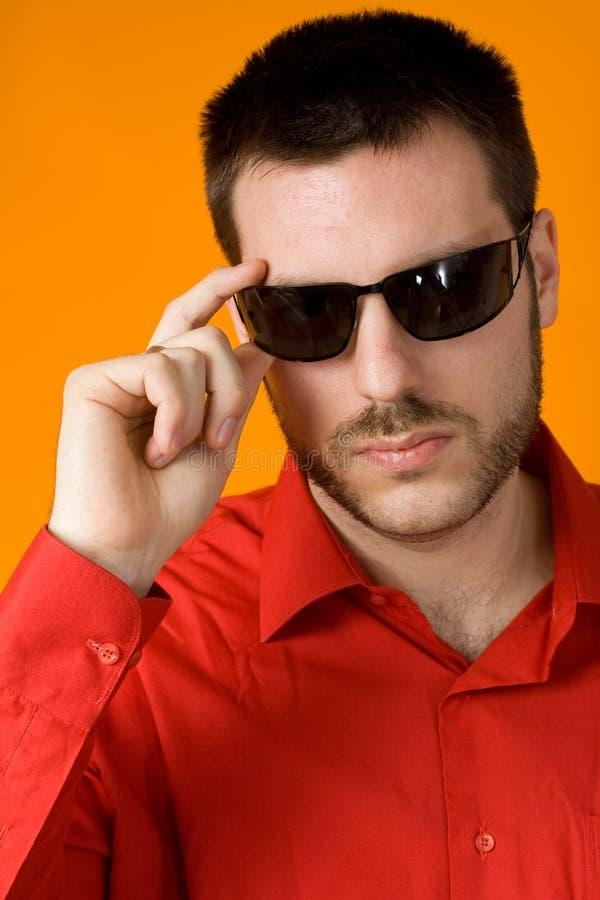sunglasses: (203, 210, 538, 370)
